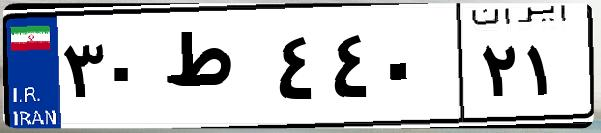0: (385, 28, 445, 110), (110, 28, 158, 98)
1: (525, 38, 570, 115)
2: (475, 38, 525, 113)
3: (57, 26, 110, 100)
4: (270, 28, 330, 110), (330, 28, 385, 110)
ط: (158, 20, 270, 120)
